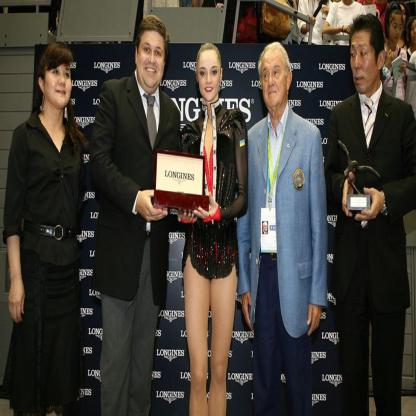face: (352, 36, 379, 94), (139, 34, 165, 86), (45, 59, 73, 107), (262, 56, 287, 107), (198, 55, 221, 101), (390, 18, 403, 44), (398, 7, 407, 27), (411, 21, 416, 44)
